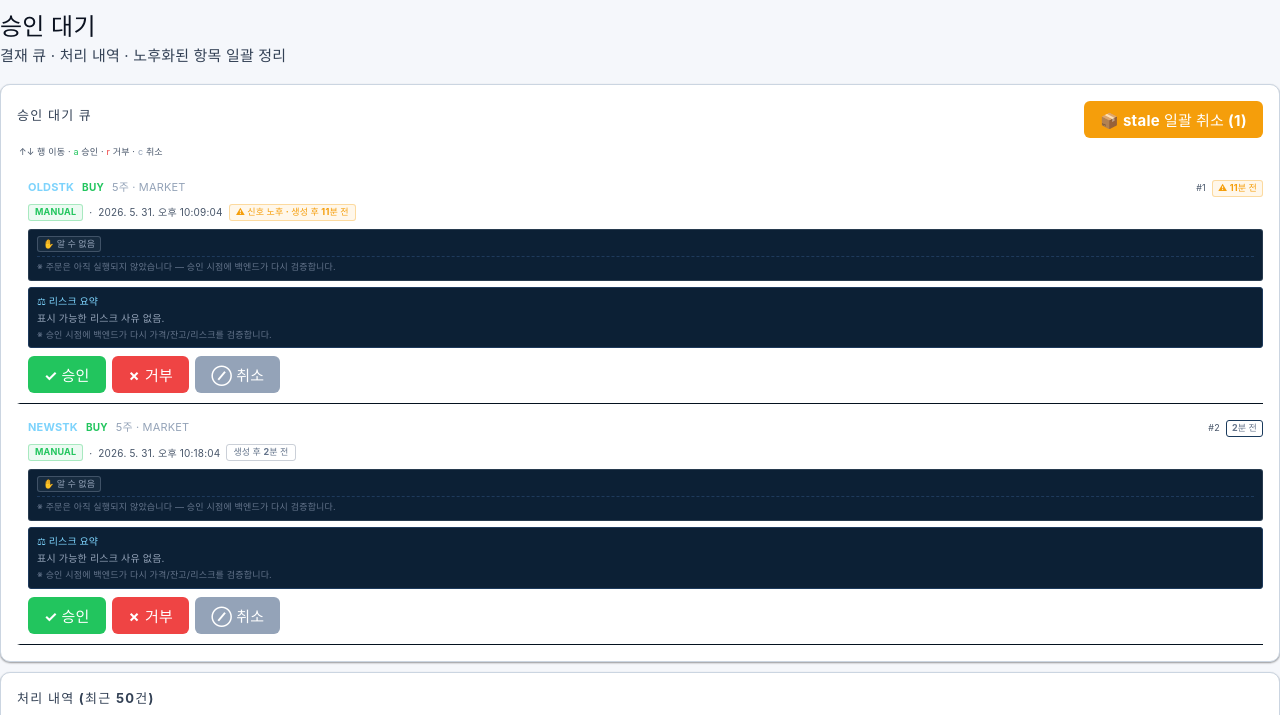
Test: <Approvals> stale bulk-cancel button › clicking the bulk button opens the modal scoped to stale rows only
Click the button "📦 stale 일괄 취소 (1)" at (1174, 119), box [1084,101,1263,138]
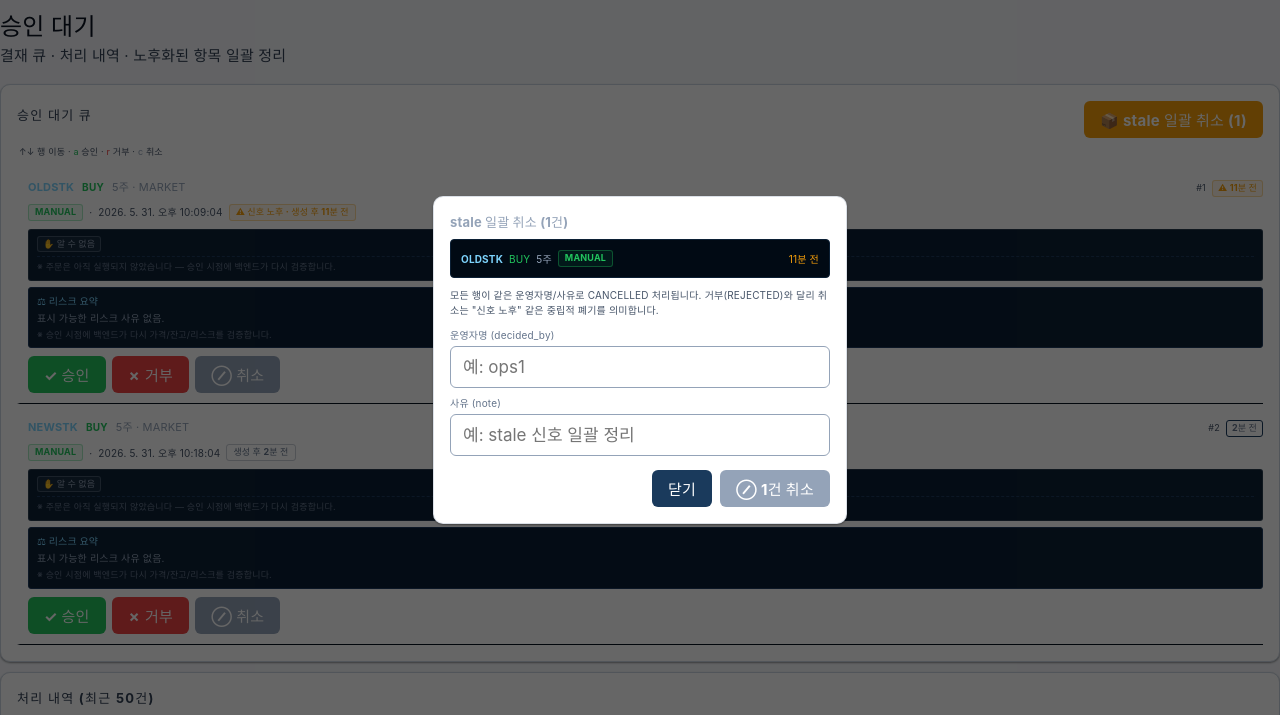
Expected: the text "OLDSTK" is shown, [461,252,503,266]
Expected: the button "⊘ 1건 취소" is shown, [720,470,830,507]
